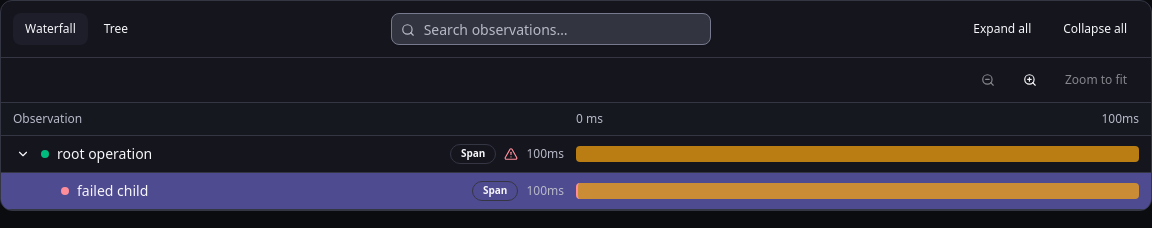
Test: trace viewer acceptance › AC6: keeps the controlled selection while a collapsed ancestor visibly signals a descendant error
What coordinates should you click on to do the following:
click the button named "Collapse root operation"
I would click on:
 (23, 154)
Its box is [13,144,33,164].
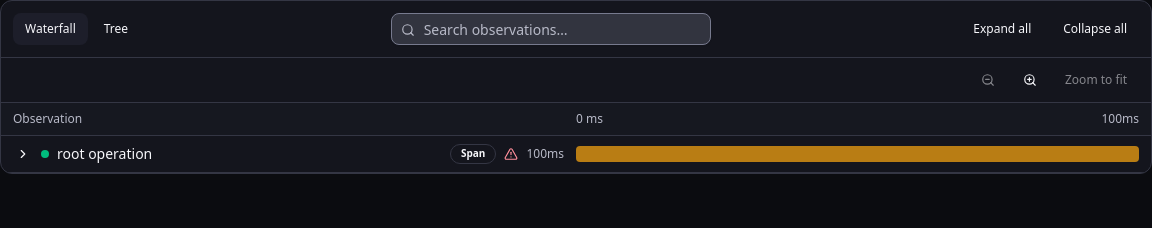
Expected: the icon named "Contains an error" is shown, [504,147,518,161]
Expected: the list item with test id "span-row" is collapsed, [1,136,1151,173]
